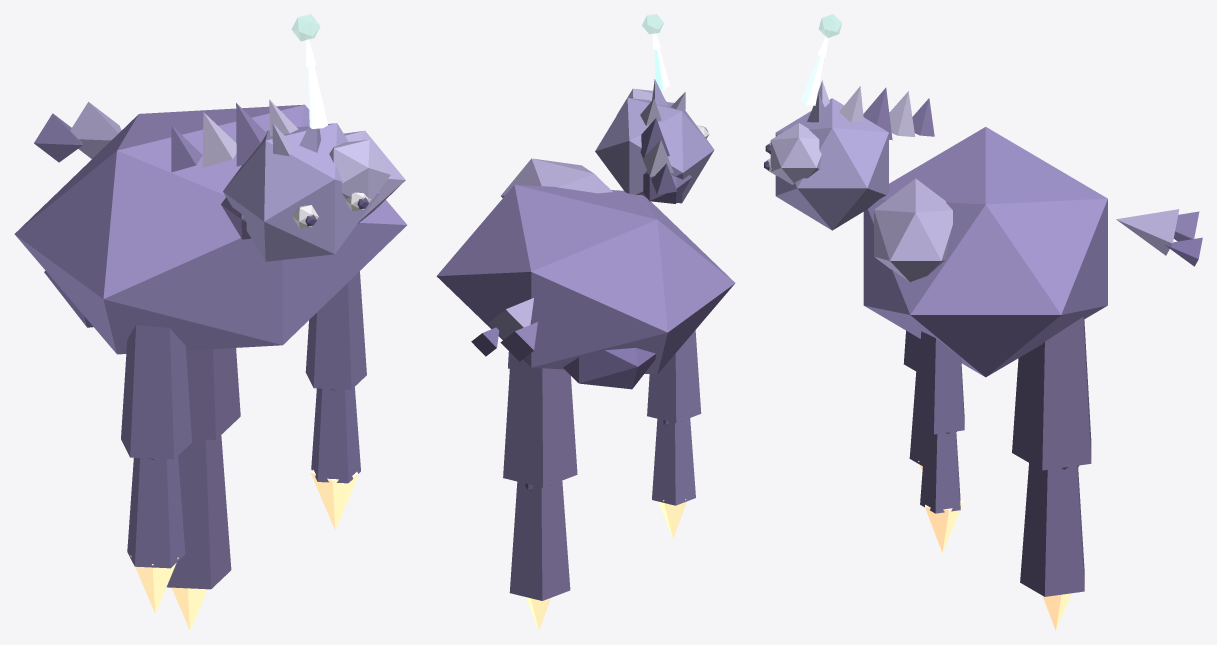
File: pony_rig.gltf
3 views of the same model, side by side, from view 1: azimuth 30°, elevation 25°; view 2: azimuth 150°, elevation 25°; view 3: azimuth 270°, elevation 25° (orthographic). The views are drawn at different scales.
Visible parts, largest first — view 1: TorsoMain, HeadMain, Leg1Upper, Leg2Lower, Leg1Lower, Leg3Upper, Leg2Upper, Leg3Lower, HeadLight, TailSeg1, TailSeg2, ManeSpike3 (+8 smaller); view 2: TorsoMain, Leg2Upper, Leg2Lower, HeadMain, Leg1Upper, Leg1Lower, TorsoDark, TorsoLight, TailSeg1, TailSeg2, HeadDark, ManeSpike3 (+4 smaller); view 3: TorsoMain, Leg2Upper, HeadMain, Leg2Lower, TorsoLight, Leg3Upper, Leg3Lower, HeadLight, TailSeg1, ManeSpike3, Leg3FlameOuter, ManeSpike2 (+1 smaller).
Part boxes in pixels (x1,y1,x2,y2): TorsoMain: [14, 104, 406, 354]; HeadMain: [223, 123, 379, 261]; Leg1Upper: [121, 325, 191, 459]; Leg2Lower: [166, 435, 231, 589]; Leg1Lower: [127, 456, 185, 568]; Leg3Upper: [305, 271, 366, 389]; Leg2Upper: [186, 348, 240, 439]; Leg3Lower: [311, 387, 360, 483]; HeadLight: [329, 139, 390, 205]; TailSeg1: [70, 102, 121, 158]; TailSeg2: [34, 113, 82, 162]; ManeSpike3: [202, 112, 236, 167]; TorsoMain: [436, 184, 735, 374]; Leg2Upper: [503, 353, 577, 487]; Leg2Lower: [509, 481, 570, 600]; HeadMain: [595, 98, 714, 203]; Leg1Upper: [647, 330, 701, 423]; Leg1Lower: [652, 418, 695, 505]; TorsoDark: [563, 347, 655, 389]; TorsoLight: [501, 158, 612, 197]; TailSeg1: [488, 298, 533, 339]; TailSeg2: [500, 322, 537, 361]; HeadDark: [643, 171, 691, 203]; ManeSpike3: [642, 140, 673, 176]; TorsoMain: [863, 127, 1107, 377]; Leg2Upper: [1012, 317, 1091, 470]; HeadMain: [775, 98, 888, 230]; Leg2Lower: [1020, 463, 1084, 596]; TorsoLight: [874, 178, 952, 281]; Leg3Upper: [915, 331, 964, 434]; Leg3Lower: [920, 430, 960, 513]; HeadLight: [770, 123, 821, 184]; TailSeg1: [1116, 209, 1179, 255]; ManeSpike3: [889, 91, 915, 136]; Leg3FlameOuter: [925, 499, 963, 552]; ManeSpike2: [863, 87, 892, 140].
Bounding box in the file's own units: 1.79 × 4.02 × 2.63.
